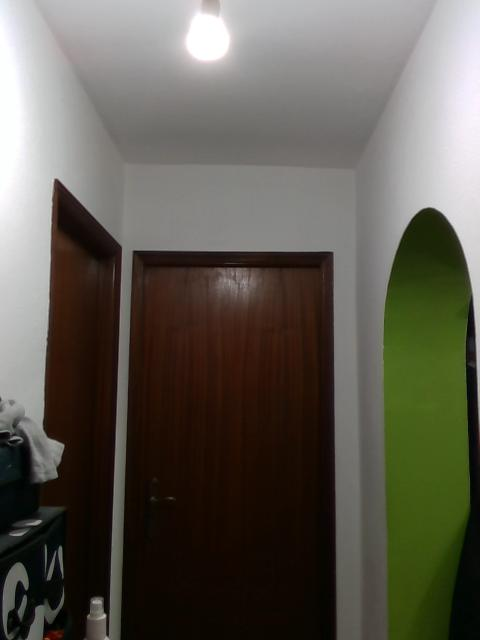closed_door: (119, 249, 335, 638)
